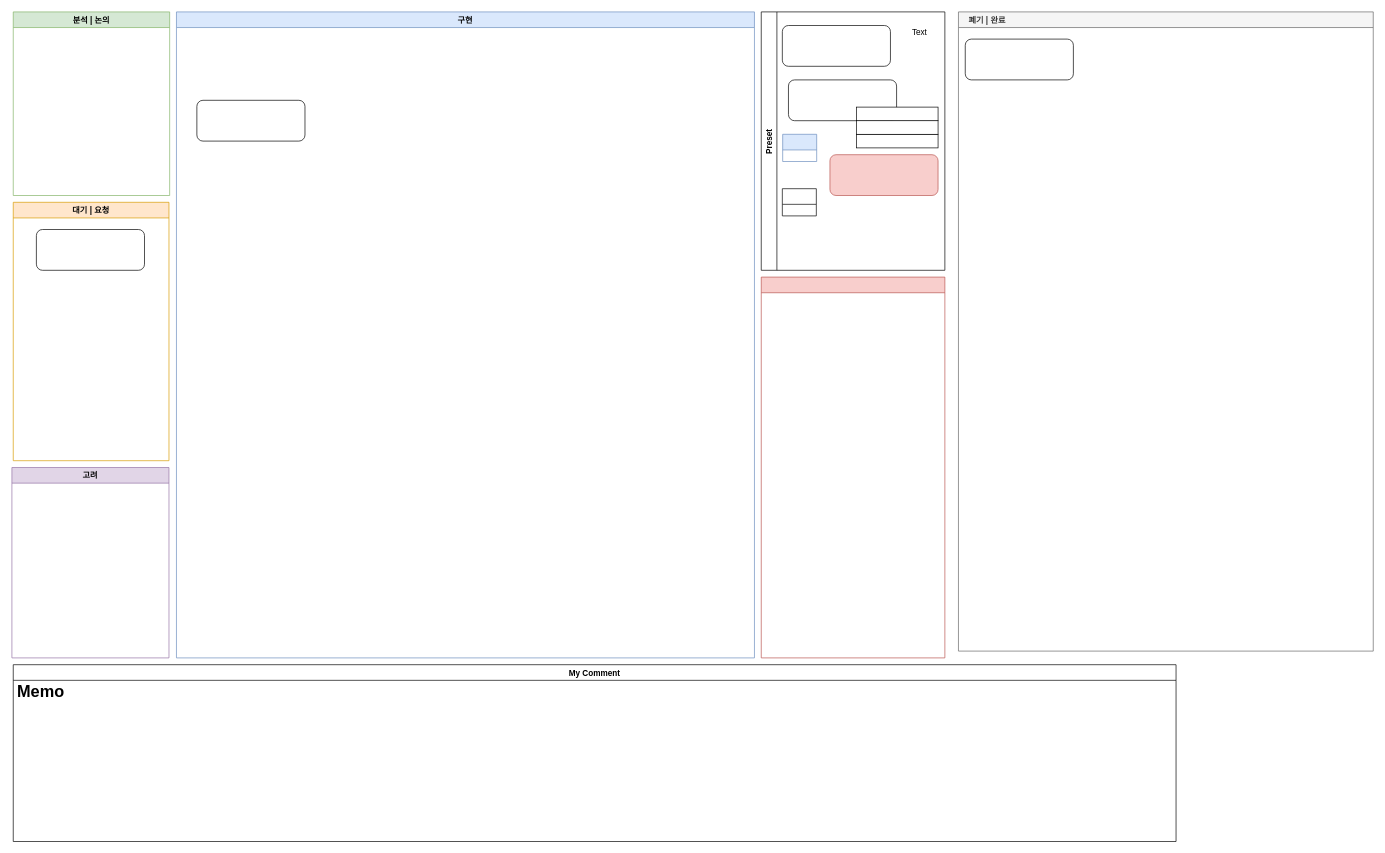
Some shapes in this 1385 by 853 pixel diagram are drawn without their labels. The centre of each missing label's shape, as x and y in pixels:
에러 | 수정: (853,467)
임시 설정된 Contents_Unlock 바꿔둘 것: (90,249)
콘텐츠 확장 메뉴에 현상수배 추가: (250,120)
햄버거 메뉴에 현상수배 추가: (1019,59)
